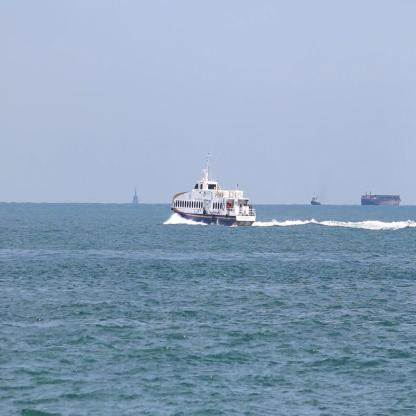Container Ship: (359, 188, 402, 208), (308, 189, 322, 207)
